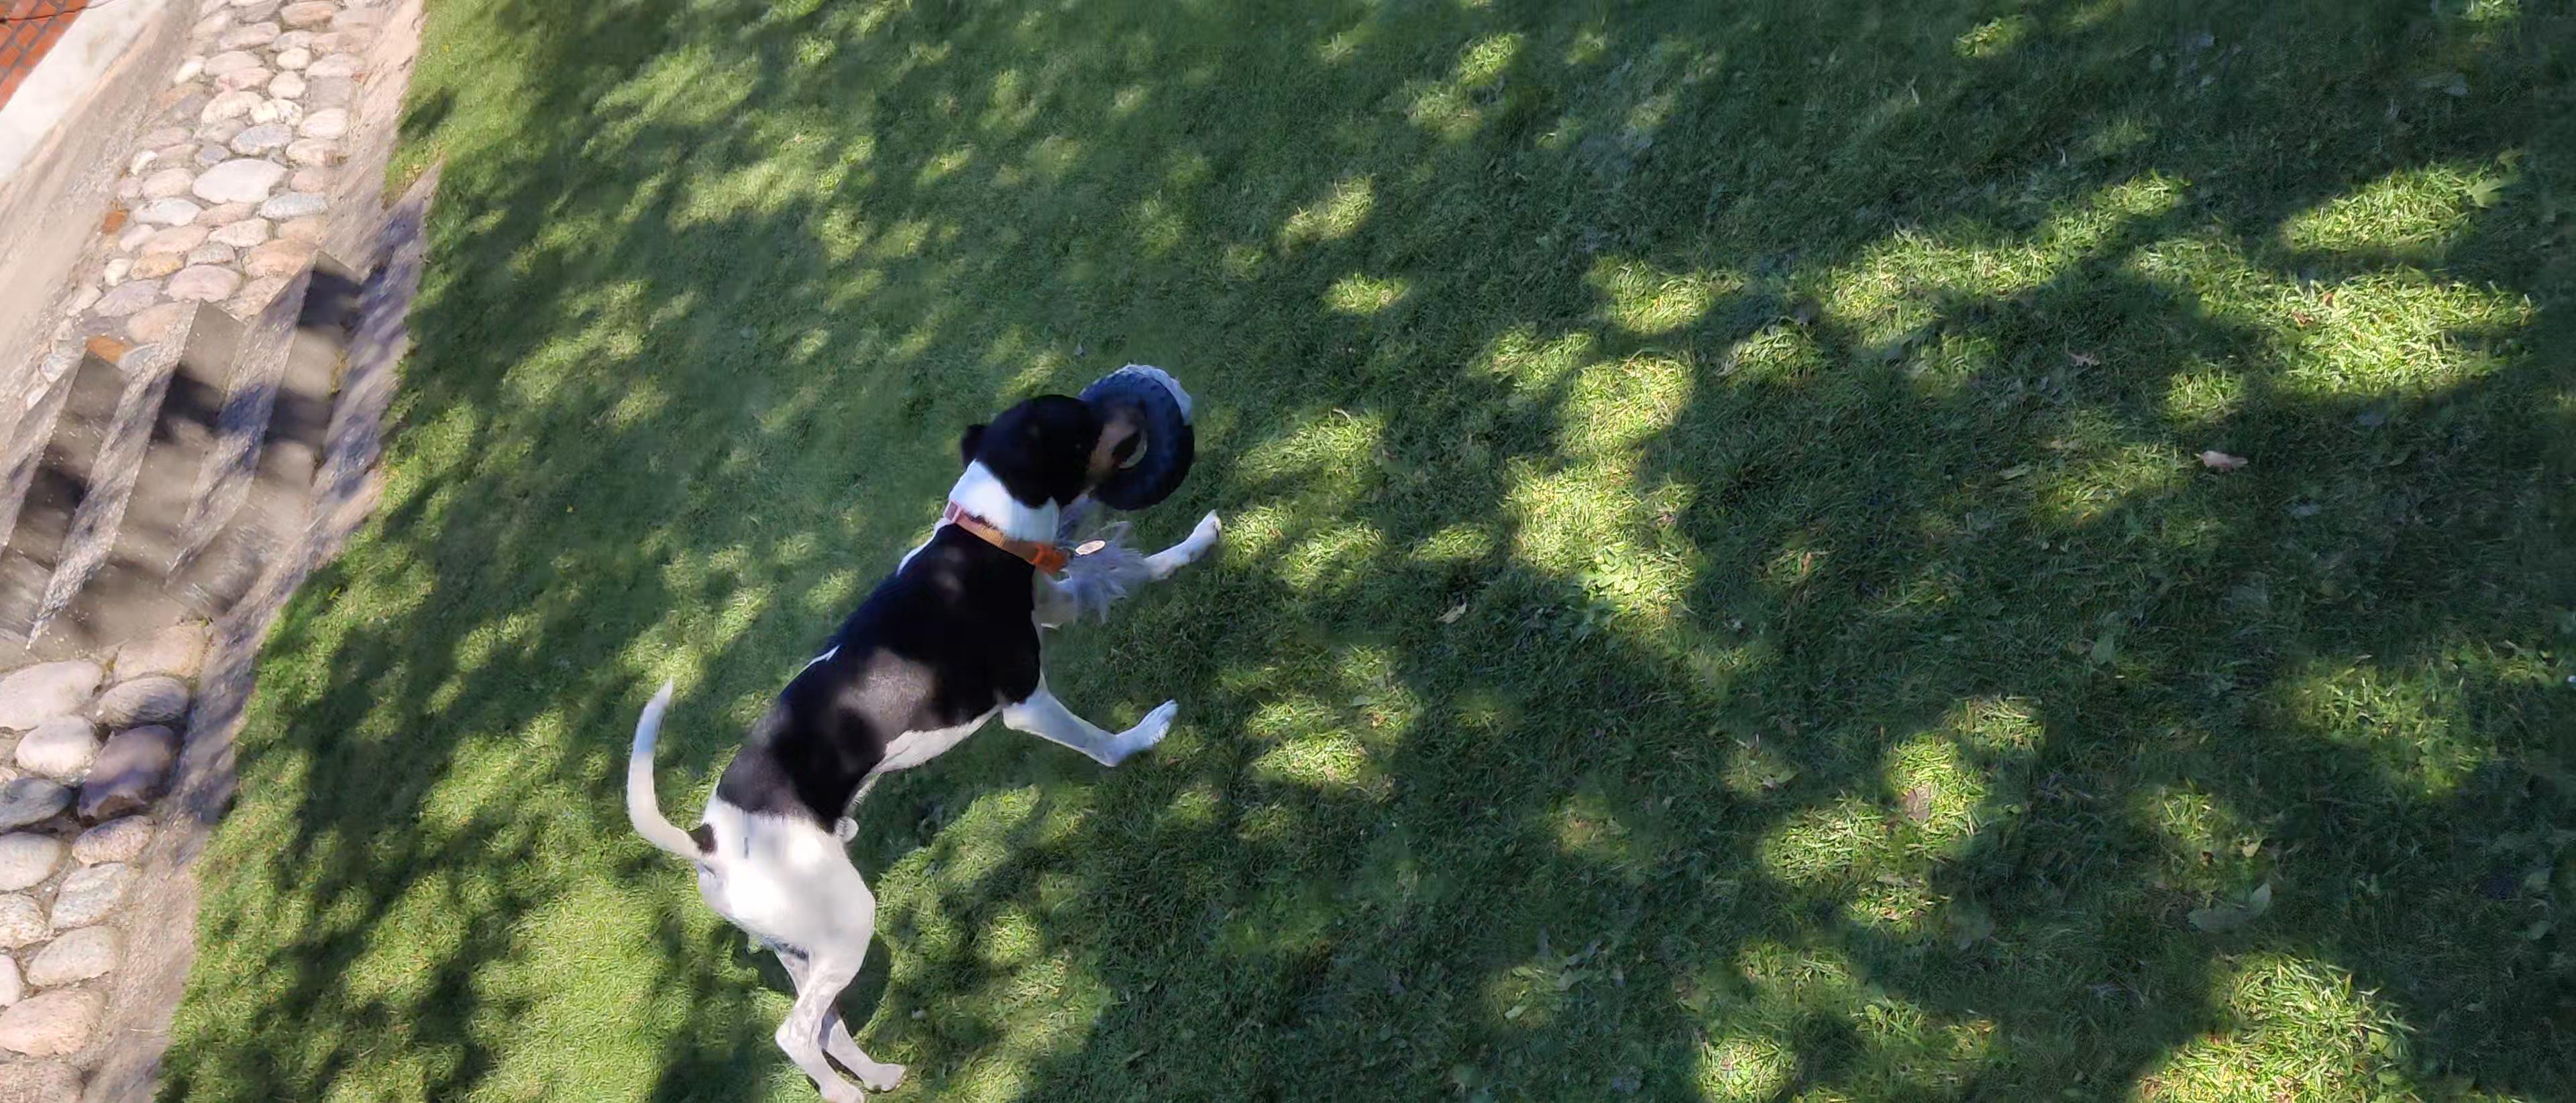Dog: (611, 385, 1234, 1103)
